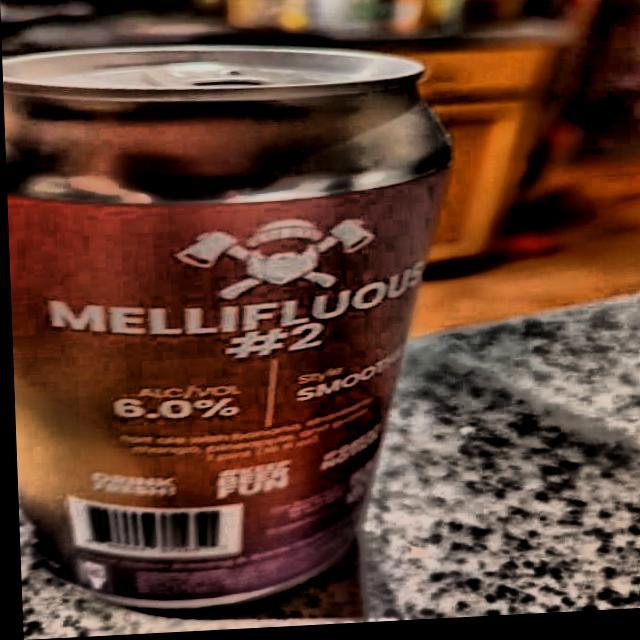Aluminum Can: (1, 20, 468, 628)
